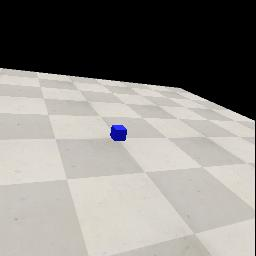box: (110, 125, 127, 141)
